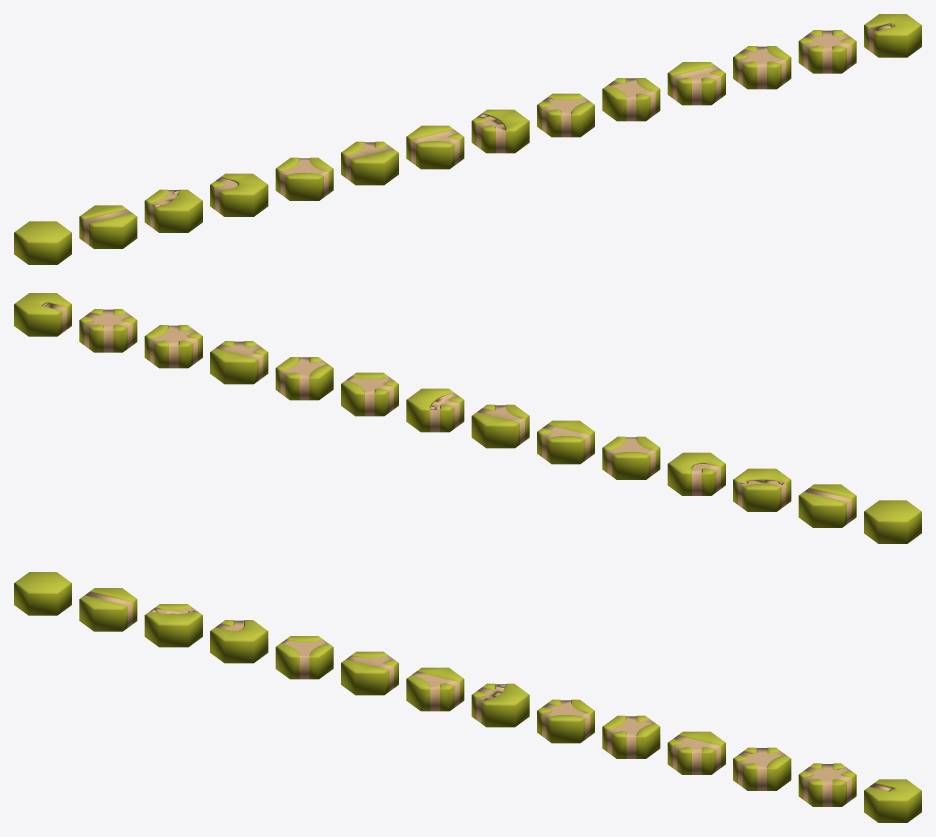
File: hex-roads.glb
3 renders of one model, top to bottom at view 1: azimuth 30°, elevation 25°; view 2: azimuth 150°, elevation 25°; view 3: azimuth 330°, elevation 25°, orthographic.
Visible parts, largest first — view 1: hex_road_F, hex_road_G, hex_road_H, hex_road_K, hex_road_A, hex_road_I, hex_road_J, hex_road_L, hex_road_C, hex_road_E, hex_road_D, hex_road_B (+2 smaller); view 2: hex_road_G, hex_road_F, hex_road_H, hex_road_E, hex_road_K, hex_road_A, hex_road_C, hex_road_I, hex_road_J, hex_road_L, hex_road_B, hex_road_D (+2 smaller); view 3: hex_road_F, hex_road_G, hex_road_E, hex_road_B, hex_road_A, hex_road_C, hex_road_D, hex_road_J, hex_road_H, hex_road_I, hex_road_L, hex_road_K (+2 smaller).
Part boxes in pixels (box(x1,y1,x2,y2)): hex_road_F: box(406, 125, 464, 169); hex_road_G: box(471, 109, 529, 153); hex_road_H: box(537, 93, 594, 137); hex_road_K: box(733, 46, 791, 89); hex_road_A: box(79, 205, 137, 248); hex_road_I: box(602, 78, 660, 121); hex_road_J: box(667, 62, 725, 105); hex_road_L: box(798, 30, 856, 73); hex_road_C: box(210, 173, 268, 216); hex_road_E: box(341, 141, 398, 185); hex_road_D: box(275, 157, 333, 200); hex_road_B: box(144, 189, 202, 232); hex_road_G: box(406, 388, 464, 432); hex_road_F: box(471, 404, 529, 448); hex_road_H: box(341, 372, 398, 416); hex_road_E: box(537, 420, 594, 464); hex_road_K: box(144, 325, 202, 368); hex_road_A: box(798, 484, 856, 527); hex_road_C: box(667, 452, 725, 495); hex_road_I: box(275, 357, 333, 400); hex_road_J: box(210, 341, 268, 384); hex_road_L: box(79, 309, 137, 352); hex_road_B: box(733, 468, 791, 511); hex_road_D: box(602, 436, 660, 479); hex_road_F: box(406, 667, 464, 711); hex_road_G: box(471, 683, 529, 727); hex_road_E: box(341, 651, 398, 695); hex_road_B: box(144, 604, 202, 647); hex_road_A: box(79, 588, 137, 631); hex_road_C: box(210, 620, 268, 663); hex_road_D: box(275, 636, 333, 679); hex_road_J: box(667, 731, 725, 774); hex_road_H: box(537, 699, 594, 743); hex_road_I: box(602, 715, 660, 758); hex_road_L: box(798, 763, 856, 806); hex_road_K: box(733, 747, 791, 790).
Bounding box in the file's own units: 41 × 1 × 2.31.
1 material, 1 textured.
